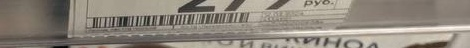1d: (92, 11, 252, 29)
